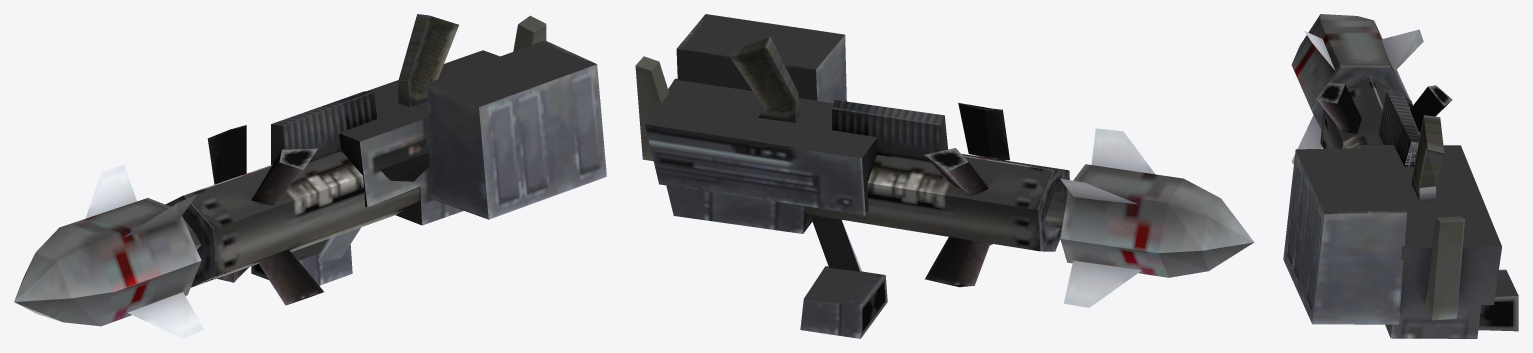
The model's file is WAAIR.obj.
3 views of the same model, side by side, from view 1: azimuth 30°, elevation 25°; view 2: azimuth 150°, elevation 25°; view 3: azimuth 270°, elevation 25° (orthographic). The views are drawn at different scales.
Parts seen in each view (by area): view 1: Node 0; view 2: Node 0; view 3: Node 0.
Part boxes in pixels (left/top/right/bottom): Node 0: left=14, top=14, right=606, bottom=338; Node 0: left=635, top=14, right=1254, bottom=338; Node 0: left=1283, top=14, right=1518, bottom=338.
Bounding box in the file's own units: 1.64 × 0.68 × 0.57.
2 materials, 2 textured.
